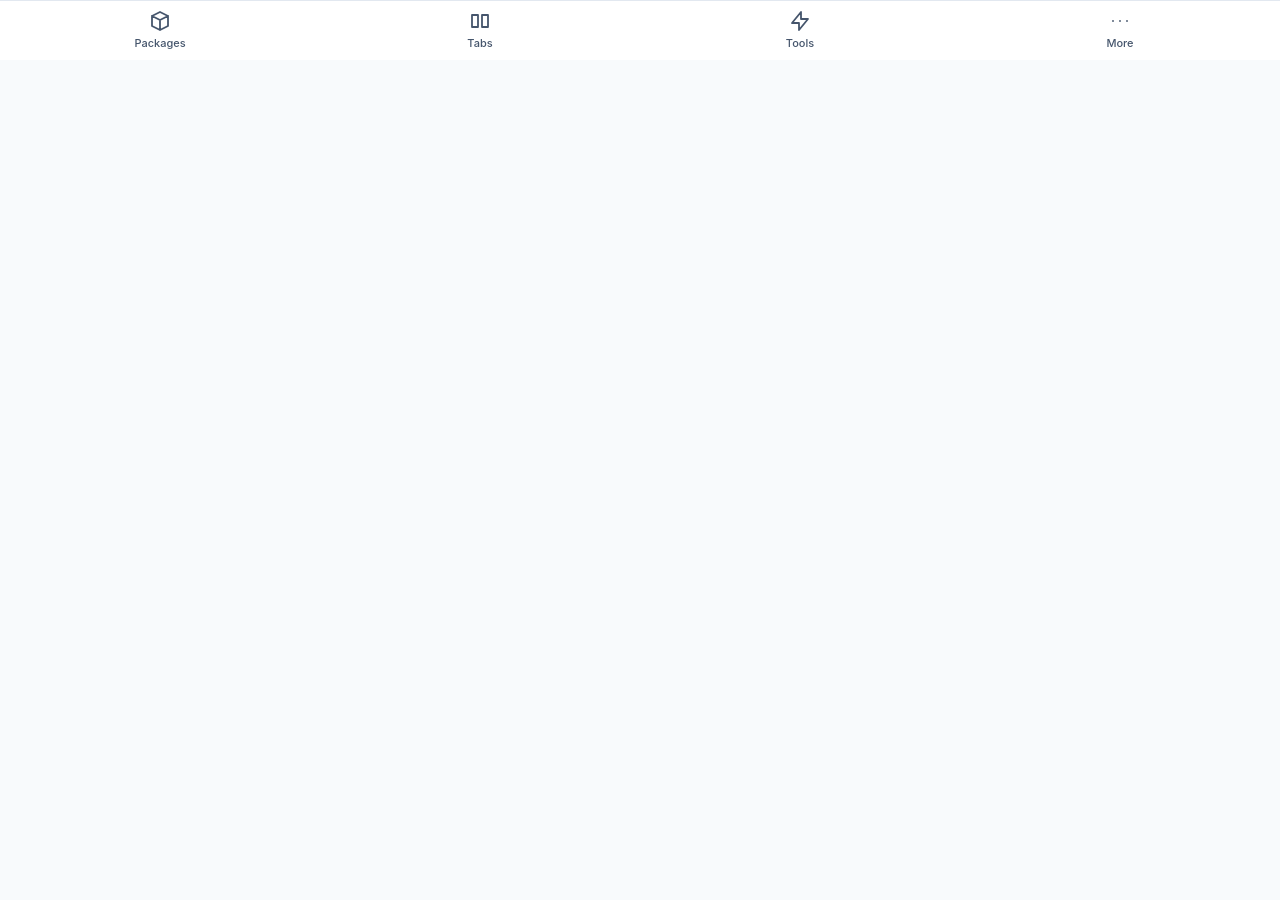
it: MobileNav › keeps the trademark disclaimer reachable from the More sheet
Click the button "More" at (1120, 30), box [960,1,1279,60]
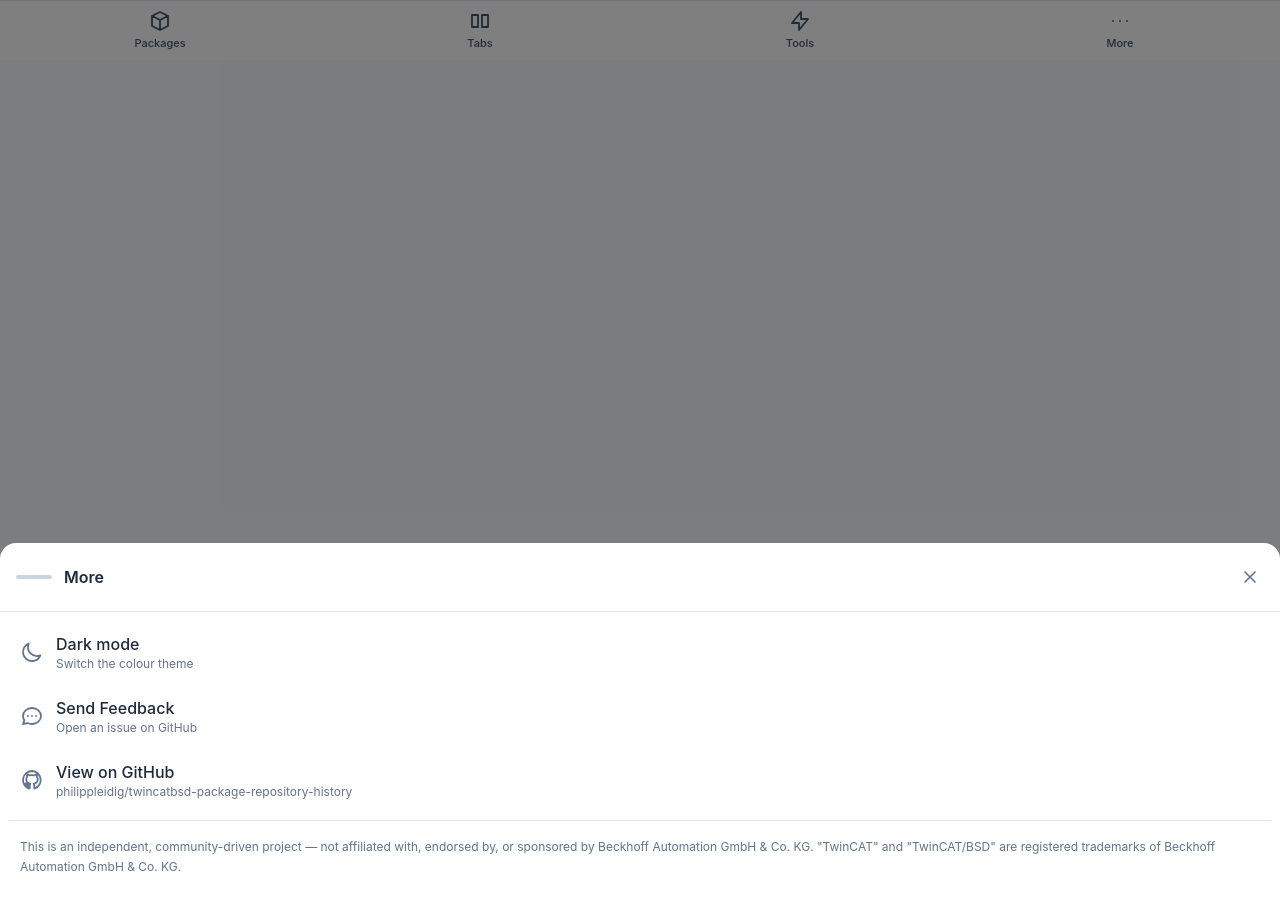
Expected: the text "independent, community-driven project" is shown, [20,839,1215,874]
